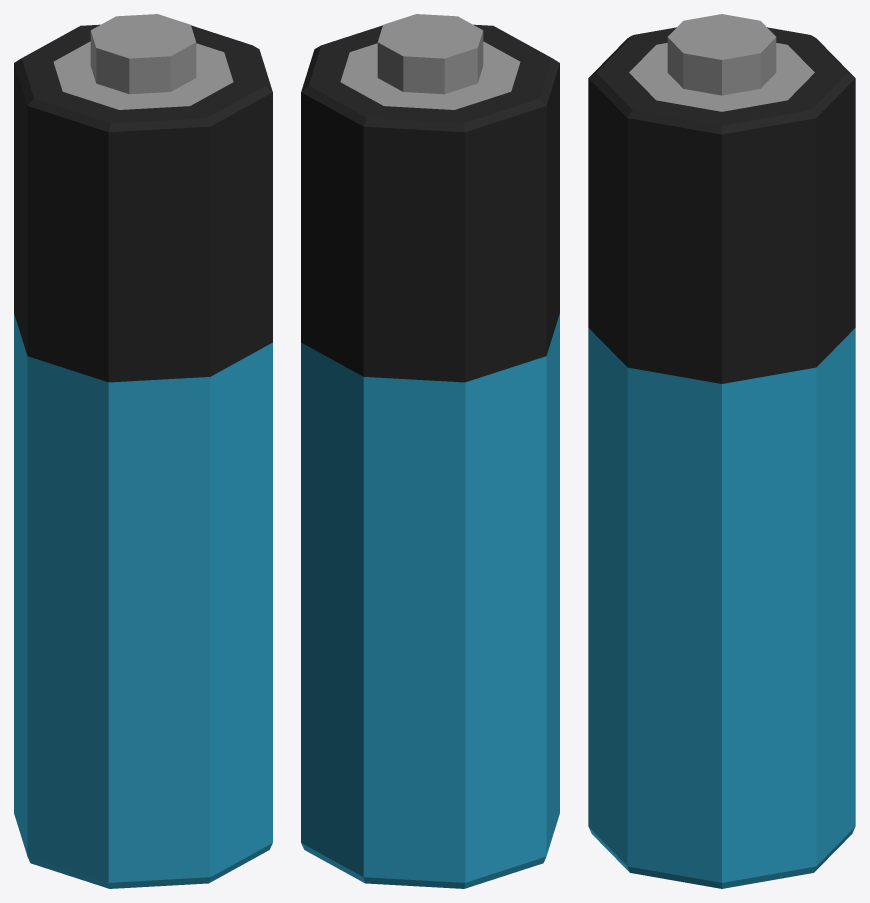
File: Battery_2_mat.fbx
The picture shows the model from 3 angles, left to right: view 1: azimuth 30°, elevation 25°; view 2: azimuth 150°, elevation 25°; view 3: azimuth 270°, elevation 25°; orthographic projection.
Parts seen in each view (by area): view 1: Battery_2_mat; view 2: Battery_2_mat; view 3: Battery_2_mat.
Part boxes in pixels (left/top/right/bottom): Battery_2_mat: left=14, top=14, right=272, bottom=888; Battery_2_mat: left=301, top=14, right=559, bottom=888; Battery_2_mat: left=588, top=14, right=855, bottom=888.
Bounding box in the file's own units: 1.44 × 4.75 × 1.44.
